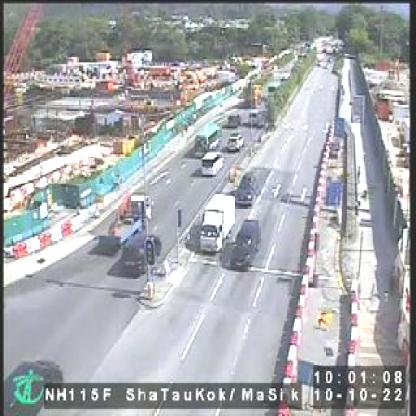Car: (228, 220, 263, 266), (121, 229, 157, 273), (236, 170, 259, 203), (202, 153, 223, 178), (227, 131, 243, 151)
Minibus: (194, 122, 220, 154)
Truck: (98, 189, 154, 250), (200, 188, 233, 252)
